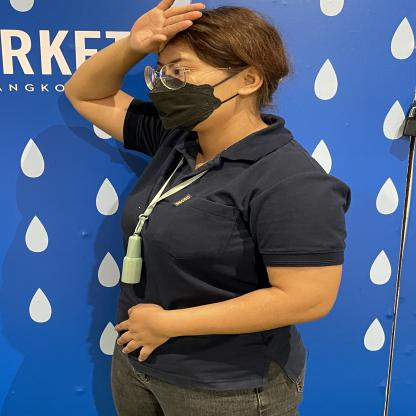Sick: (75, 0, 286, 60)
